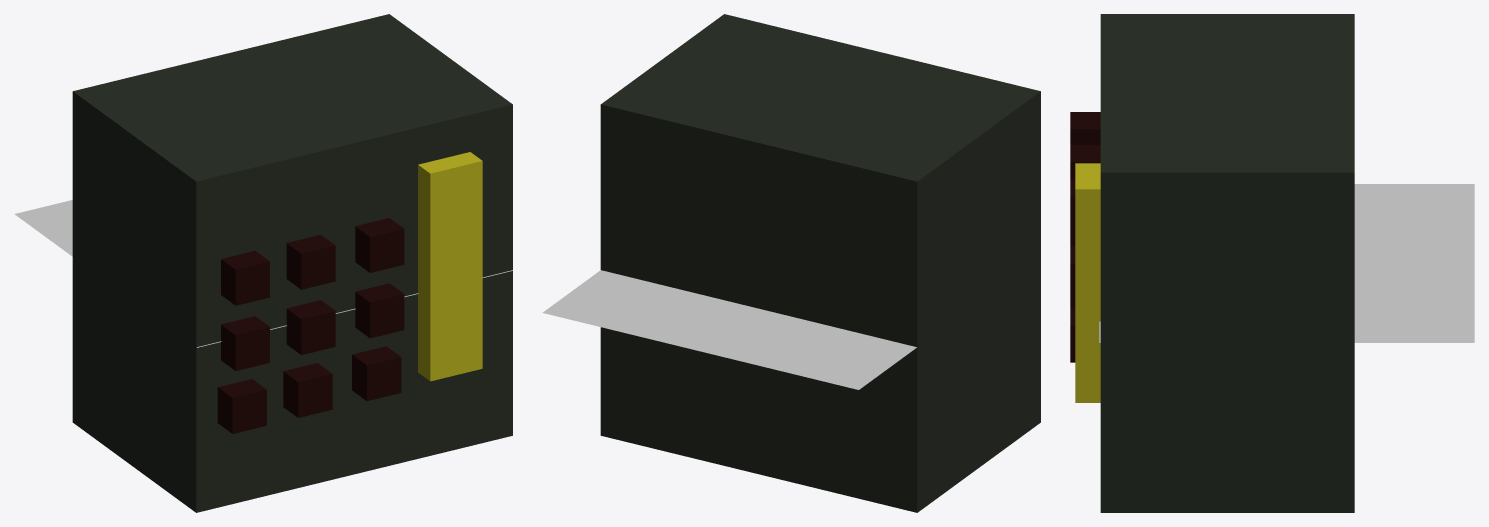
The model's file is bomb.obj.
3 views of the same model, side by side, from view 1: azimuth 30°, elevation 25°; view 2: azimuth 150°, elevation 25°; view 3: azimuth 270°, elevation 25° (orthographic). The views are drawn at different scales.
Parts seen in each view (by area): view 1: Cube_Cube.001, Cube.010_Cube.012, Cube.009_Cube.011, Cube.007_Cube.009, Cube.006_Cube.008, Cube.002_Cube.003, Cube.008_Cube.010, Cube.005_Cube.007, Cube.003_Cube.004, Cube.001_Cube.002, Cube.004_Cube.006, Plane; view 2: Cube_Cube.001, Plane; view 3: Cube_Cube.001, Plane, Cube.010_Cube.012, Cube.001_Cube.002, Cube.002_Cube.003.
Boxes of the visible parts, <box> form: Cube_Cube.001: <box>72,14,512,512</box>; Cube.010_Cube.012: <box>418,152,482,381</box>; Cube.009_Cube.011: <box>217,379,266,433</box>; Cube.007_Cube.009: <box>352,346,401,401</box>; Cube.006_Cube.008: <box>355,283,404,338</box>; Cube.002_Cube.003: <box>286,234,335,289</box>; Cube.008_Cube.010: <box>283,363,332,417</box>; Cube.005_Cube.007: <box>286,300,335,354</box>; Cube.003_Cube.004: <box>355,218,404,272</box>; Cube.001_Cube.002: <box>221,250,269,305</box>; Cube.004_Cube.006: <box>221,316,269,370</box>; Plane: <box>14,200,512,347</box>; Cube_Cube.001: <box>600,14,1040,512</box>; Plane: <box>542,270,916,389</box>; Cube_Cube.001: <box>1100,14,1354,512</box>; Plane: <box>1099,184,1474,342</box>; Cube.010_Cube.012: <box>1075,163,1100,402</box>; Cube.001_Cube.002: <box>1070,112,1100,144</box>; Cube.002_Cube.003: <box>1070,145,1100,179</box>.
Size of the model in its own units: 2 by 2 by 2.15.
